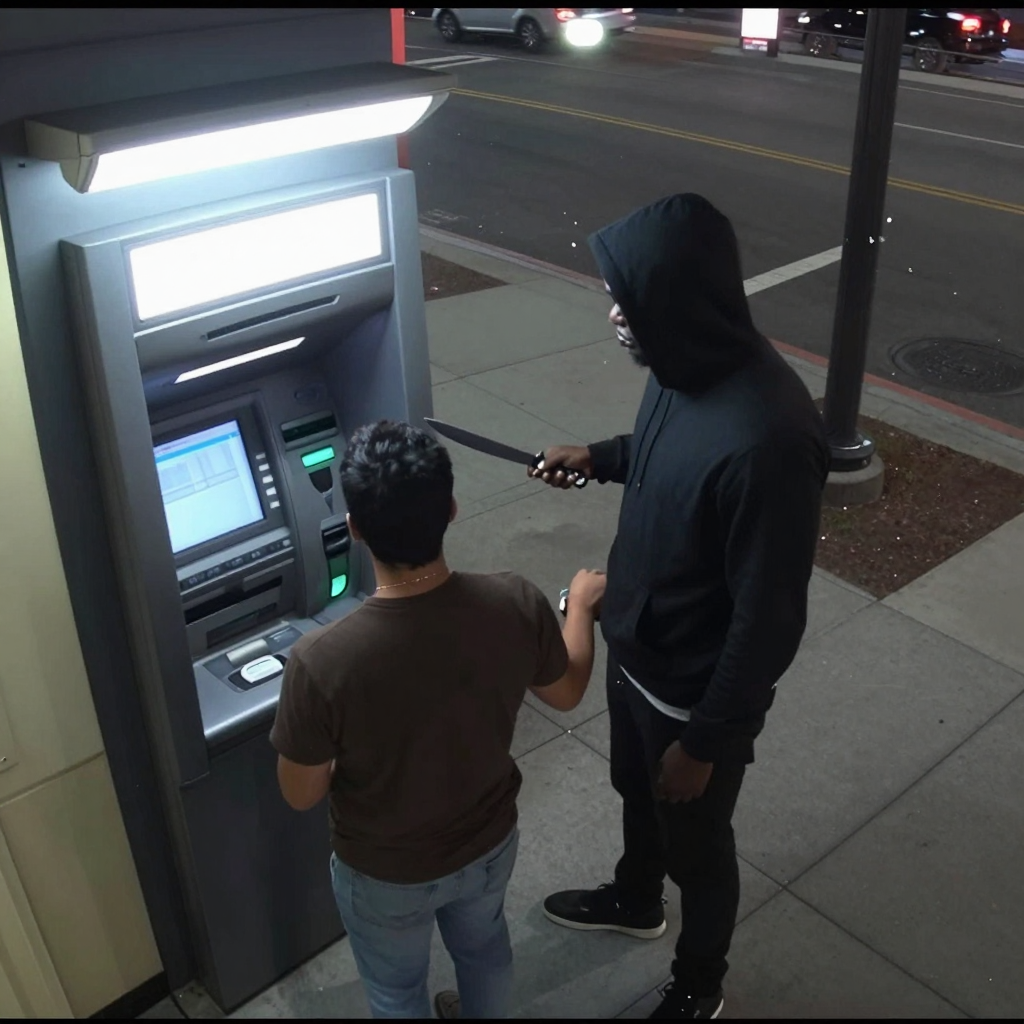Assault: (422, 416, 587, 489)
Robbery: (527, 193, 833, 1016), (268, 418, 607, 1019)
